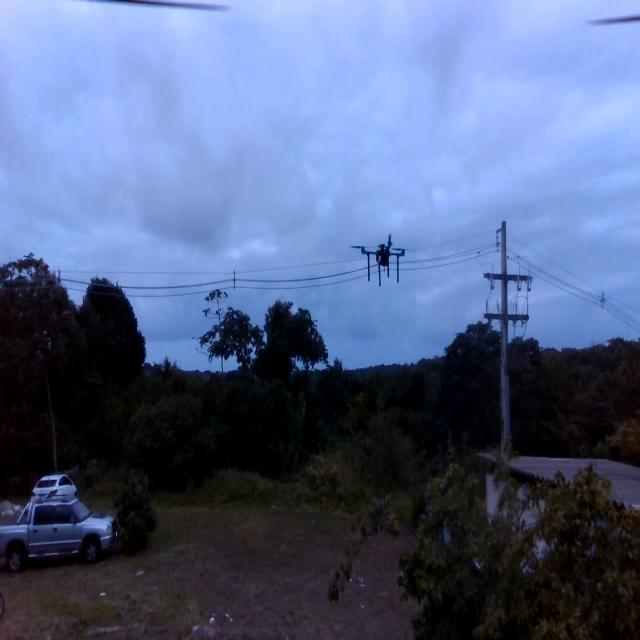-uav-: (348, 226, 409, 298)
